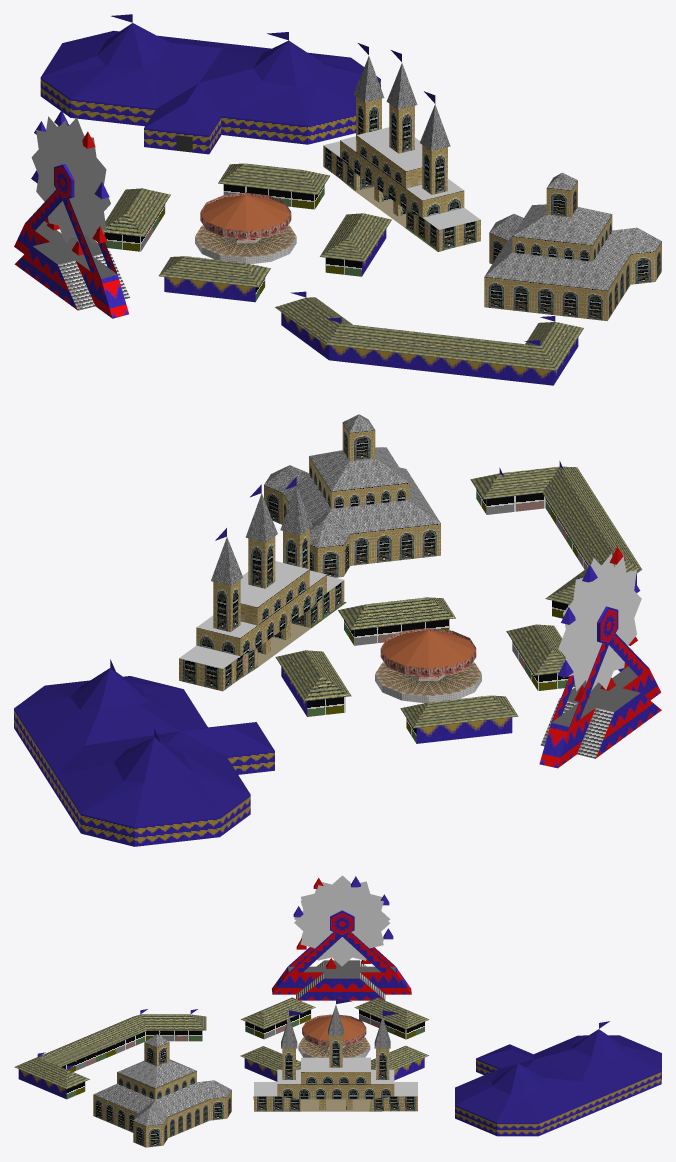
Rendered from funfair.obj.
3 renders of one model, top to bottom at view 1: azimuth 30°, elevation 25°; view 2: azimuth 150°, elevation 25°; view 3: azimuth 270°, elevation 25°, orthographic. The views are drawn at different scales.
Parts seen in each view (by area): view 1: untitled.010_untitled.015; view 2: untitled.010_untitled.015; view 3: untitled.010_untitled.015.
Boxes of the visible parts, x1=… form: untitled.010_untitled.015: x1=14, y1=14, x2=661, y2=385; untitled.010_untitled.015: x1=14, y1=414, x2=661, y2=846; untitled.010_untitled.015: x1=14, y1=875, x2=661, y2=1147.
Bounding box in the file's own units: 255 × 83.31 × 423.
